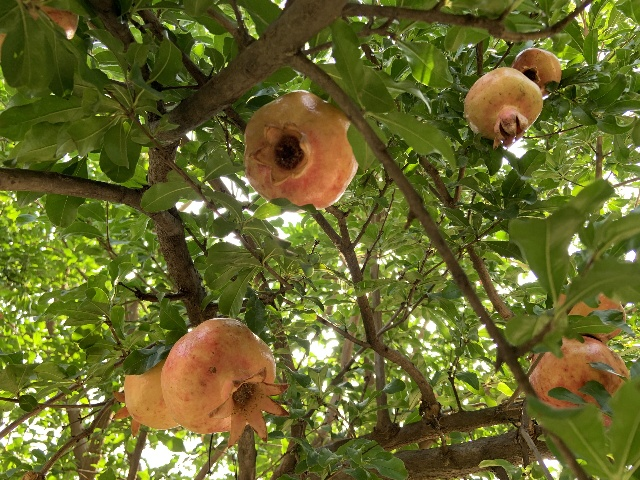ripe: (161, 317, 290, 448), (243, 90, 358, 212), (528, 335, 630, 426), (463, 66, 543, 148), (112, 359, 180, 438), (512, 48, 561, 97)
